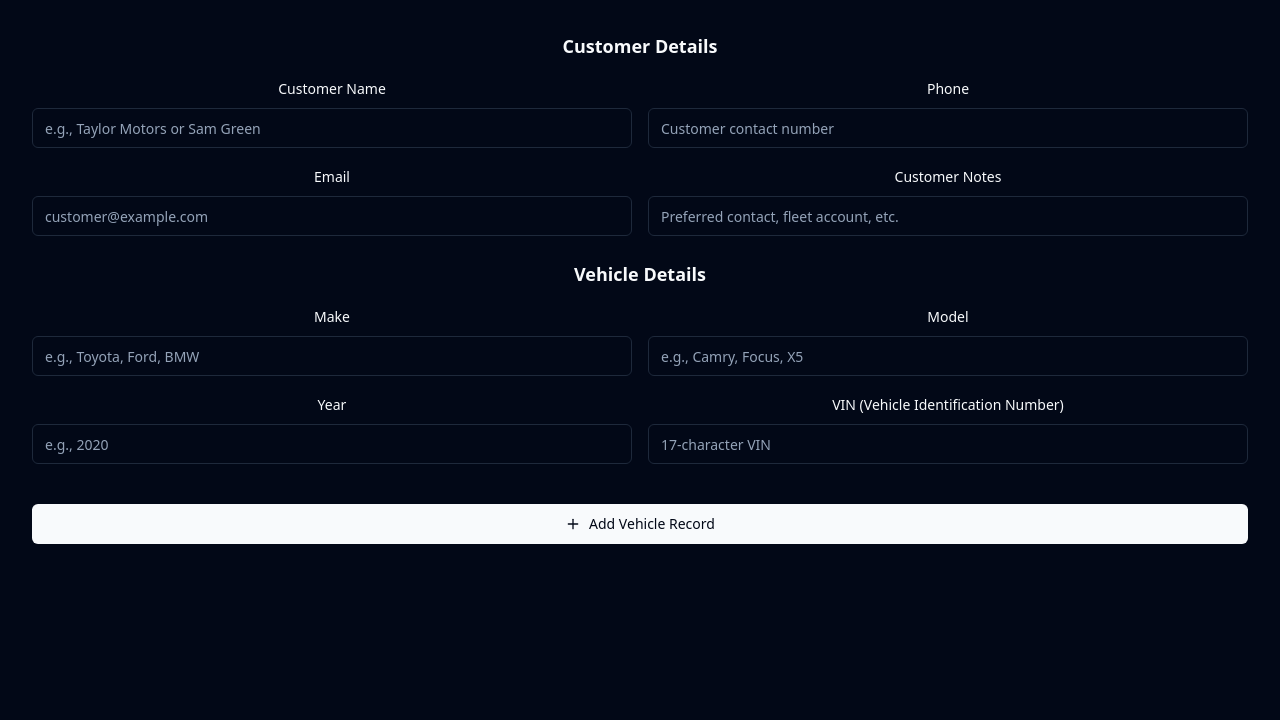
Test: AddCarForm › shows an error when the API rejects the vehicle
Type "Taylor Motors" into the field labelled "Customer Name". click: (332, 128)
box: [32, 108, 632, 148]
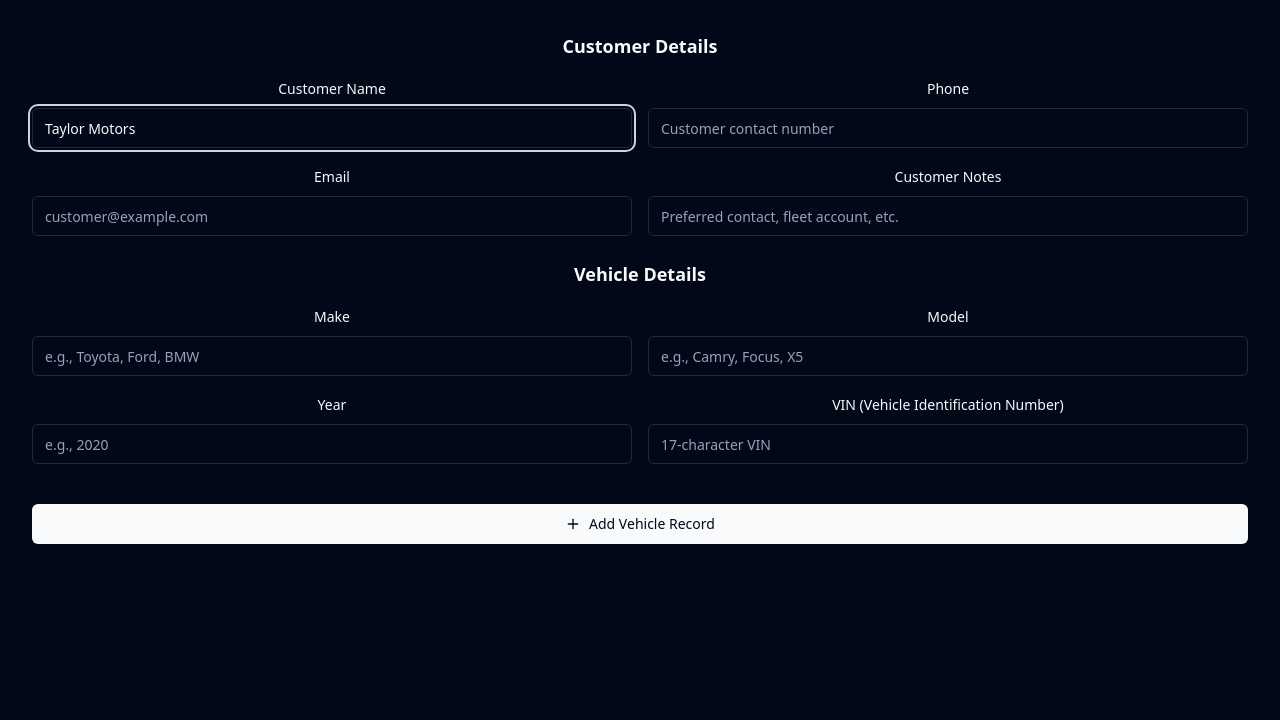
Type "Ford" into the field labelled "Make". click: (332, 356)
box: [32, 336, 632, 376]
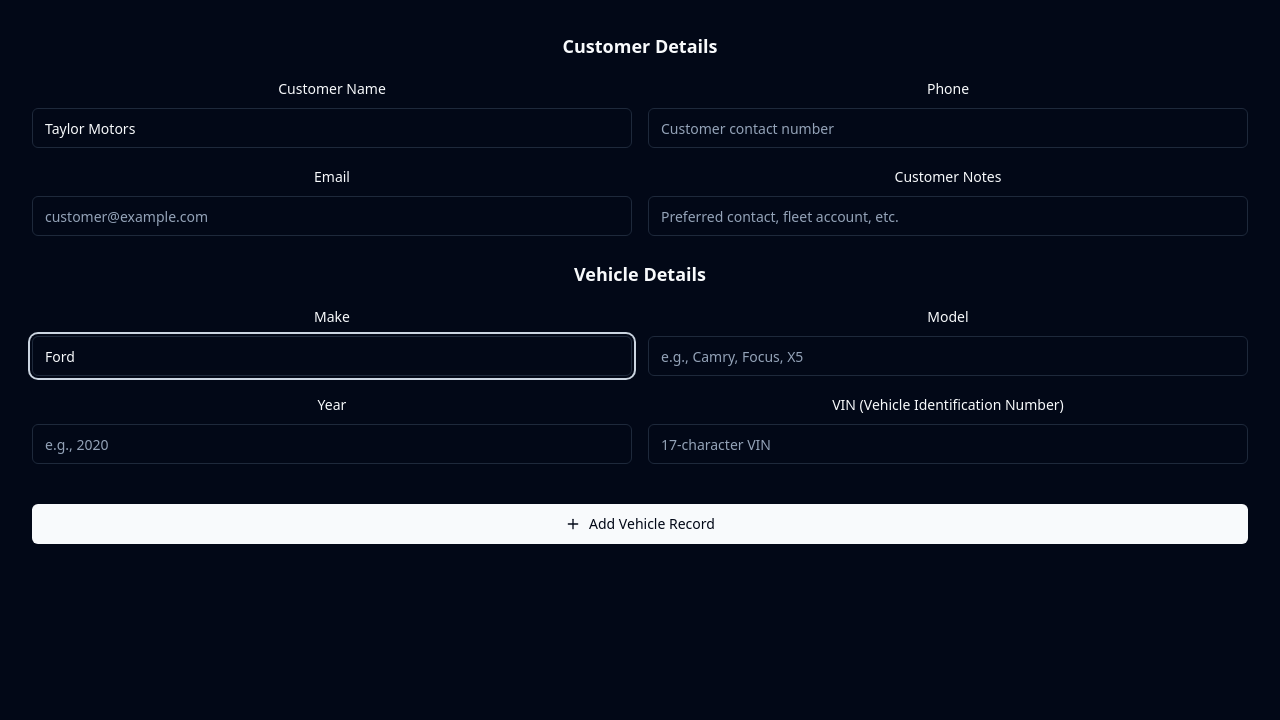
Type "Transit" into the field labelled "Model". click: (948, 356)
box: [648, 336, 1248, 376]
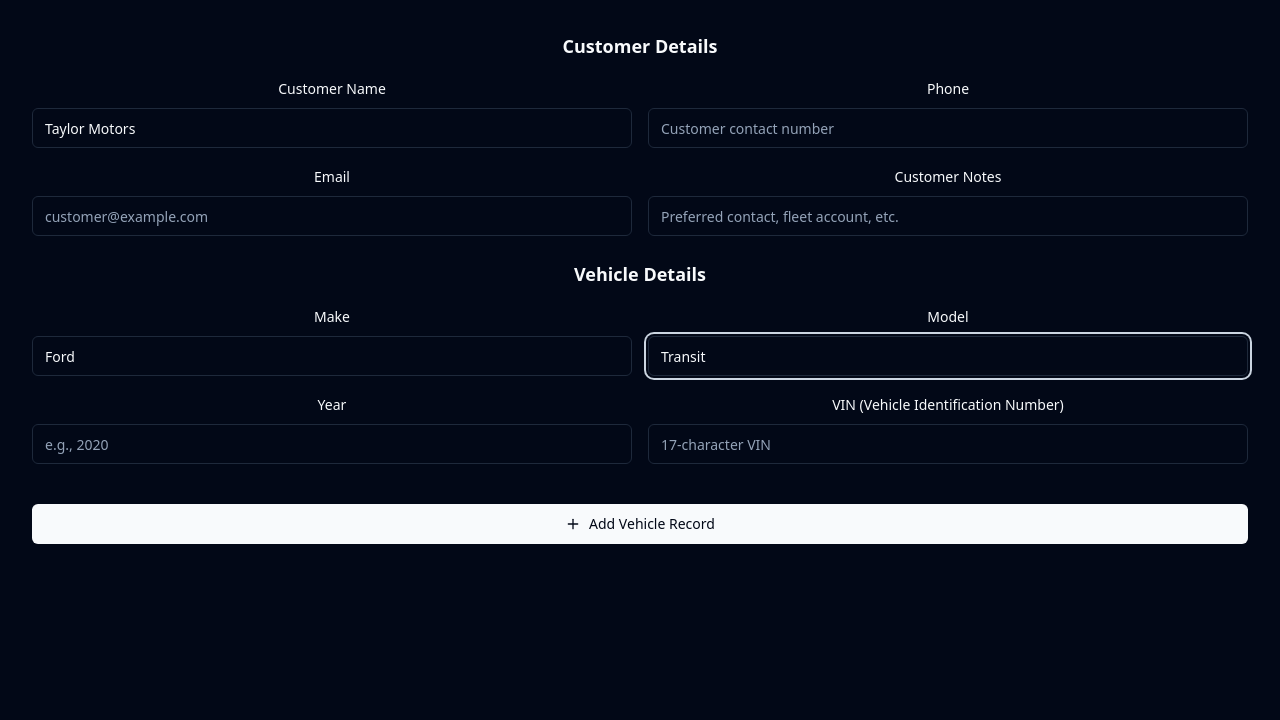
Type "2020" into the number field labelled "Year". click: (332, 444)
box: [32, 424, 632, 464]
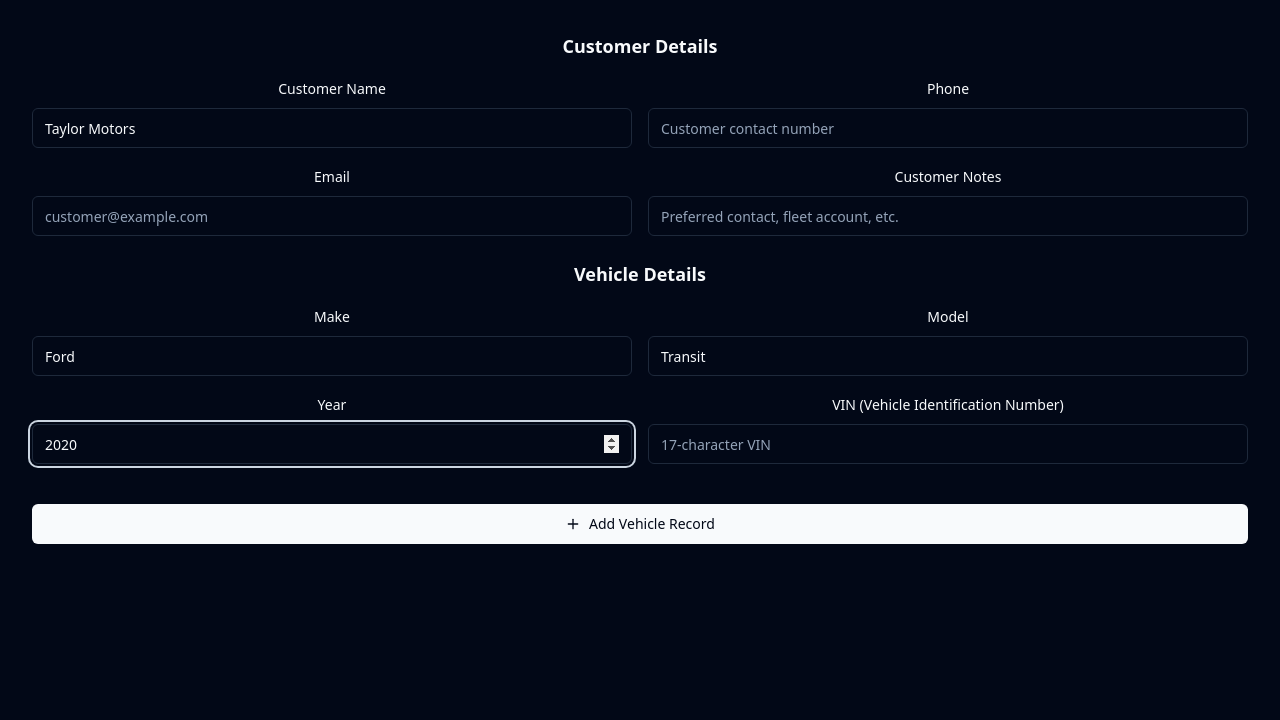
Type "VIN12345678901234" into the field labelled "VIN (Vehicle Identification Number)". click: (948, 444)
box: [648, 424, 1248, 464]
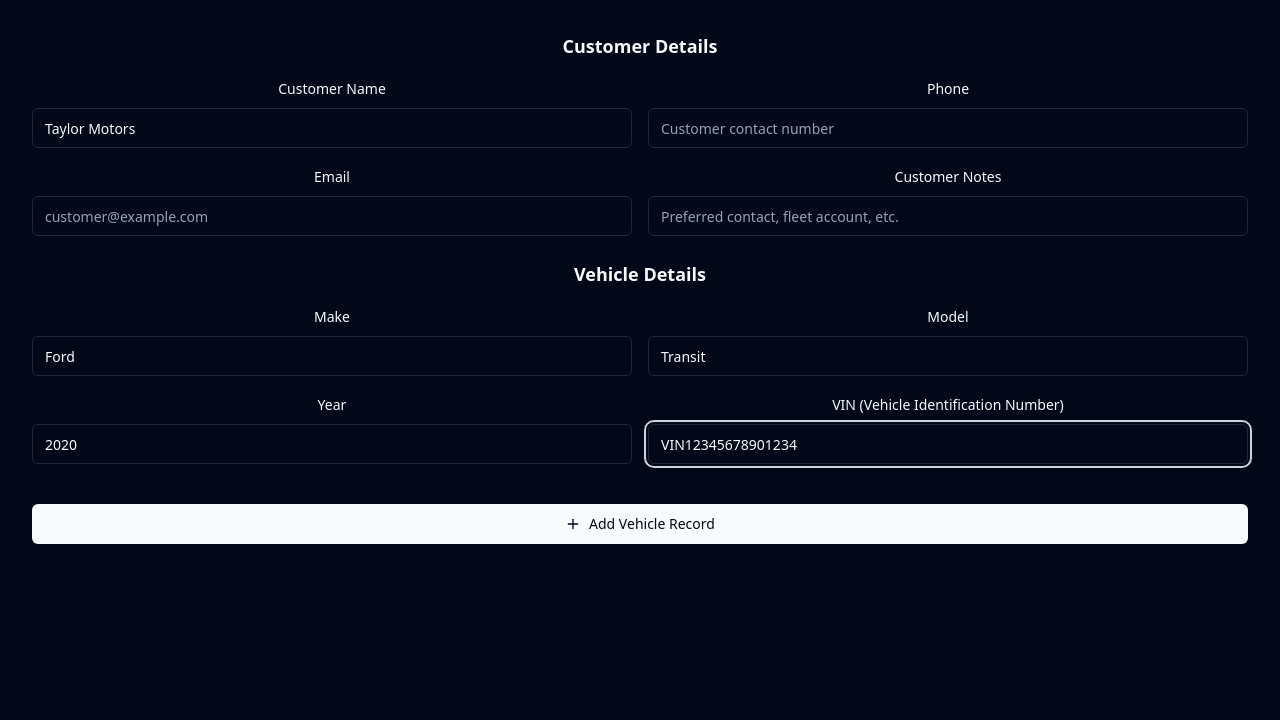
Click the button "Add Vehicle Record". click: (640, 524)
box: [32, 504, 1248, 544]
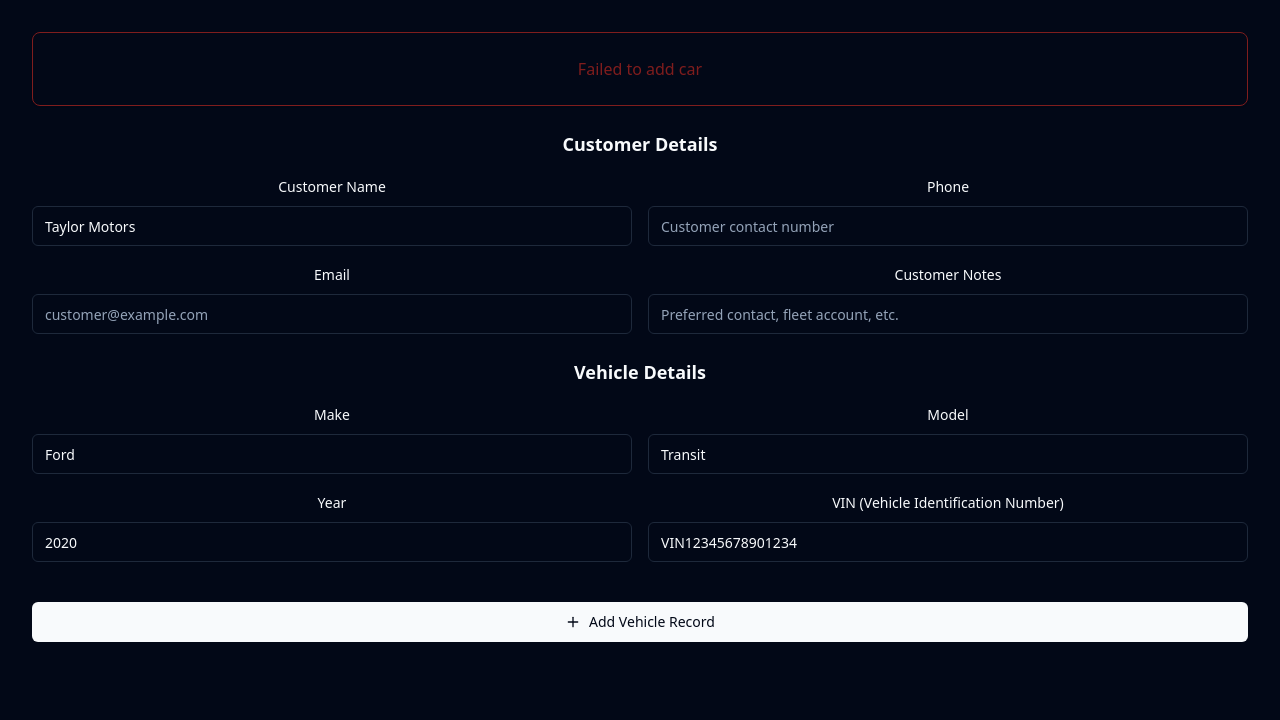
Expected: the text "Failed to add car" is shown, [578, 58, 702, 80]
